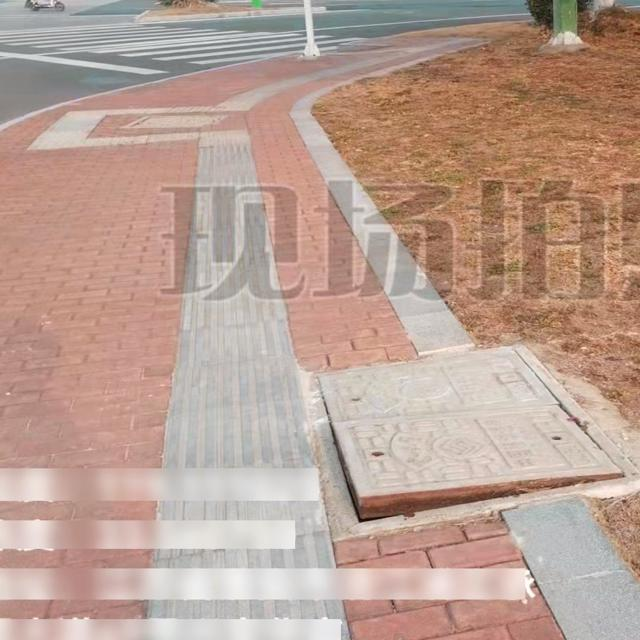uncovered: (298, 338, 637, 541)
